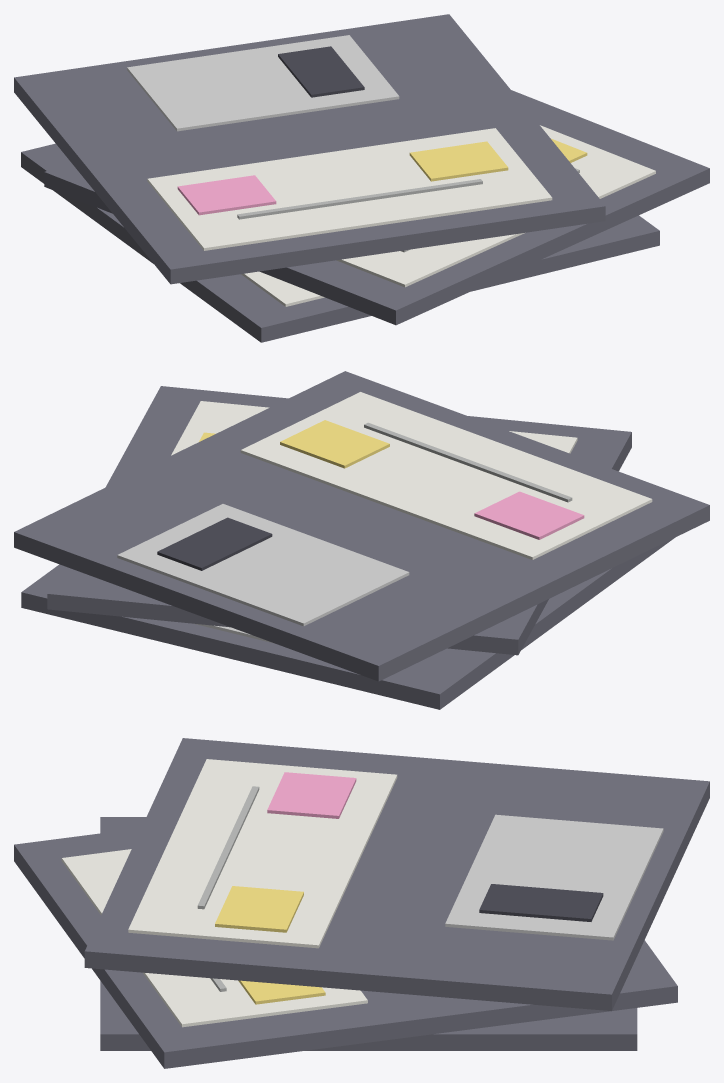
File: disquetes_mesa.glb
3 renders of one model, top to bottom at view 1: azimuth 30°, elevation 25°; view 2: azimuth 150°, elevation 25°; view 3: azimuth 270°, elevation 25°, orthographic. The views are drawn at different scales.
Parts seen in each view (by area): view 1: PilhaDeDisquetes; view 2: PilhaDeDisquetes; view 3: PilhaDeDisquetes.
Part boxes in pixels (x1,y1,x2,y2): PilhaDeDisquetes: (14,14,709,342); PilhaDeDisquetes: (14,371,709,709); PilhaDeDisquetes: (14,738,709,1068).
Size of the model in its own units: 0.1199 by 0.014 by 0.1218.
